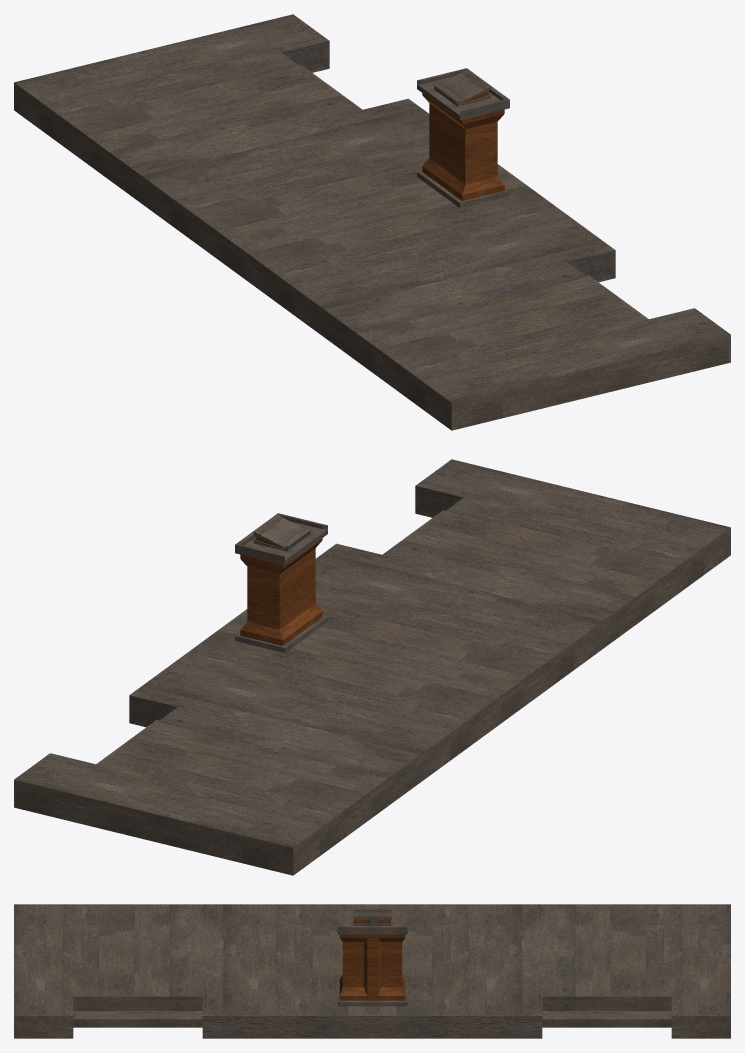
Rendered from oldwest_12.obj.
3 renders of one model, top to bottom at view 1: azimuth 30°, elevation 25°; view 2: azimuth 150°, elevation 25°; view 3: azimuth 270°, elevation 25°, orthographic. The views are drawn at different scales.
Visible parts, largest first — view 1: Cube.186, Cube.187; view 2: Cube.186, Cube.187; view 3: Cube.186, Cube.187.
Part boxes in pixels (left/top/right/bottom): Cube.186: left=14, top=14, right=730, bottom=430; Cube.187: left=417, top=68, right=509, bottom=207; Cube.186: left=14, top=459, right=730, bottom=875; Cube.187: left=235, top=513, right=327, bottom=652; Cube.186: left=14, top=904, right=730, bottom=1038; Cube.187: left=337, top=907, right=407, bottom=1006.
Size of the model in its own units: 2.44 by 1.1 by 6.61.
2 materials, 2 textured.
